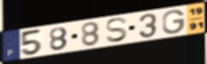3: (137, 13, 158, 39)
5: (20, 27, 46, 57)
8: (80, 21, 101, 48), (49, 26, 69, 51)
G: (162, 9, 187, 35)
S: (105, 16, 131, 43)
